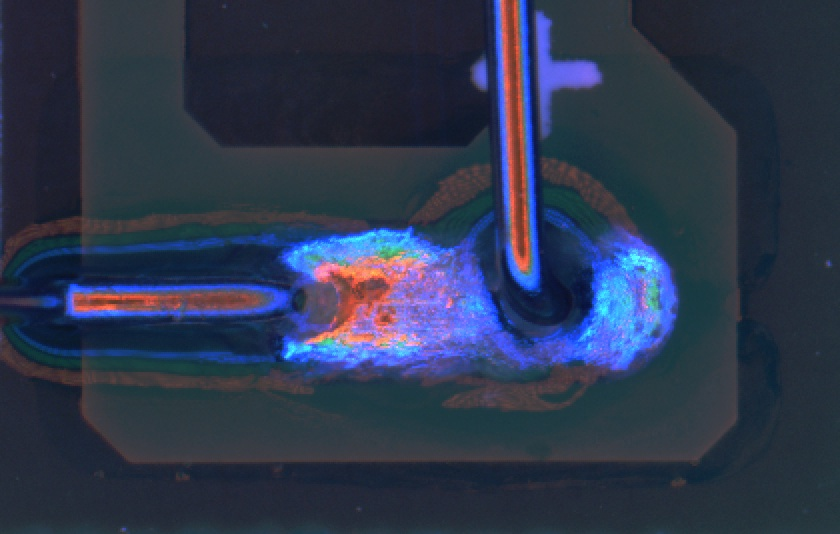offset: (232, 226, 679, 382)
spring: (486, 1, 573, 331), (1, 277, 319, 327)
